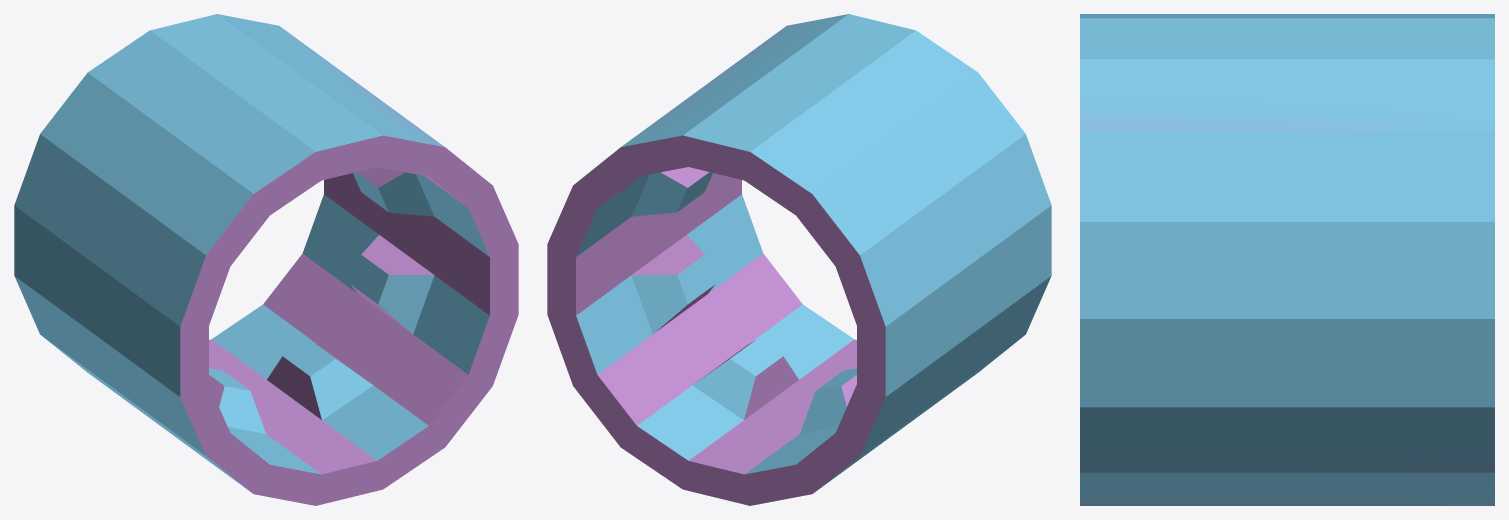
The model's file is Tonnel_Small_Borders.fbx.
3 renders of one model, left to right at view 1: azimuth 30°, elevation 25°; view 2: azimuth 150°, elevation 25°; view 3: azimuth 270°, elevation 25°, orthographic. The views are drawn at different scales.
Parts seen in each view (by area): view 1: Tonnel_Small_Borders; view 2: Tonnel_Small_Borders; view 3: Tonnel_Small_Borders.
Part boxes in pixels (x1,y1,x2,y2): Tonnel_Small_Borders: (14, 14, 518, 505); Tonnel_Small_Borders: (547, 14, 1051, 505); Tonnel_Small_Borders: (1080, 14, 1494, 505).
Bounding box in the file's own units: 2354 × 2354 × 2000.
1 material, 1 textured.
